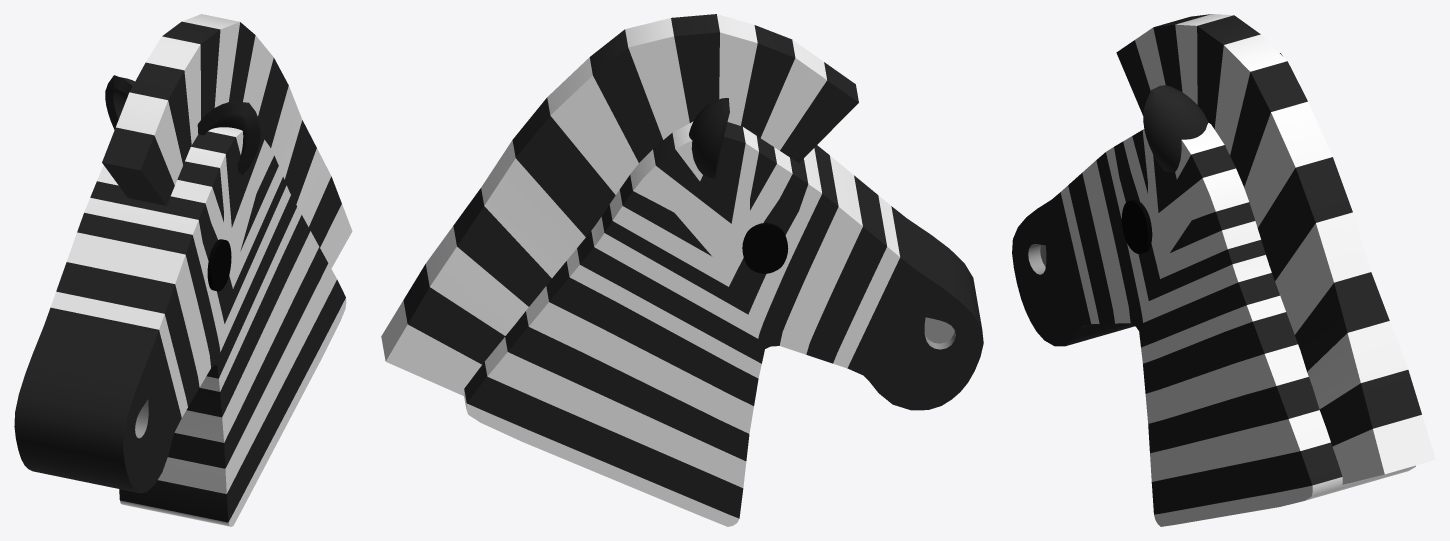
Rendered from zebra.fbx.
The picture shows the model from 3 angles, left to right: view 1: azimuth 30°, elevation 25°; view 2: azimuth 150°, elevation 25°; view 3: azimuth 270°, elevation 25°; orthographic projection. The views are drawn at different scales.
Parts seen in each view (by area): view 1: Plane.114, Cube.6216, Cube.778, Circle.1882; view 2: Plane.114, Cube.6216, Cube.778, Circle.1882; view 3: Plane.114, Cube.6216, Cube.778, Circle.1882.
Boxes of the visible parts, <box> form: Plane.114: <box>14,127,346,526</box>; Cube.6216: <box>102,14,352,268</box>; Cube.778: <box>105,75,260,174</box>; Circle.1882: <box>207,239,231,291</box>; Plane.114: <box>463,121,983,526</box>; Cube.6216: <box>381,14,858,395</box>; Cube.778: <box>689,98,729,178</box>; Circle.1882: <box>742,223,788,273</box>; Plane.114: <box>1012,123,1415,526</box>; Cube.6216: <box>1116,14,1435,484</box>; Cube.778: <box>1143,53,1282,171</box>; Circle.1882: <box>1121,199,1152,253</box>.
Size of the model in its own units: 225 by 217 by 169.
Materials: 1 (1 with a texture image).
